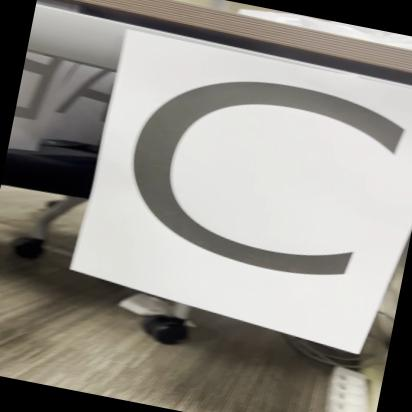seat: (80, 26, 412, 337)
